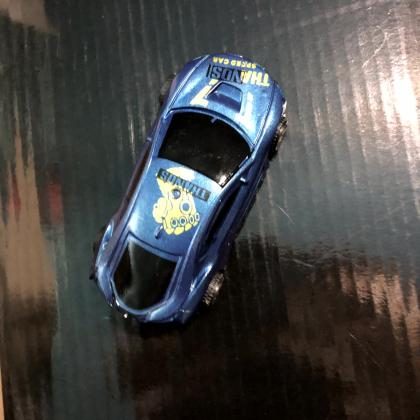Car: (86, 49, 291, 327)
